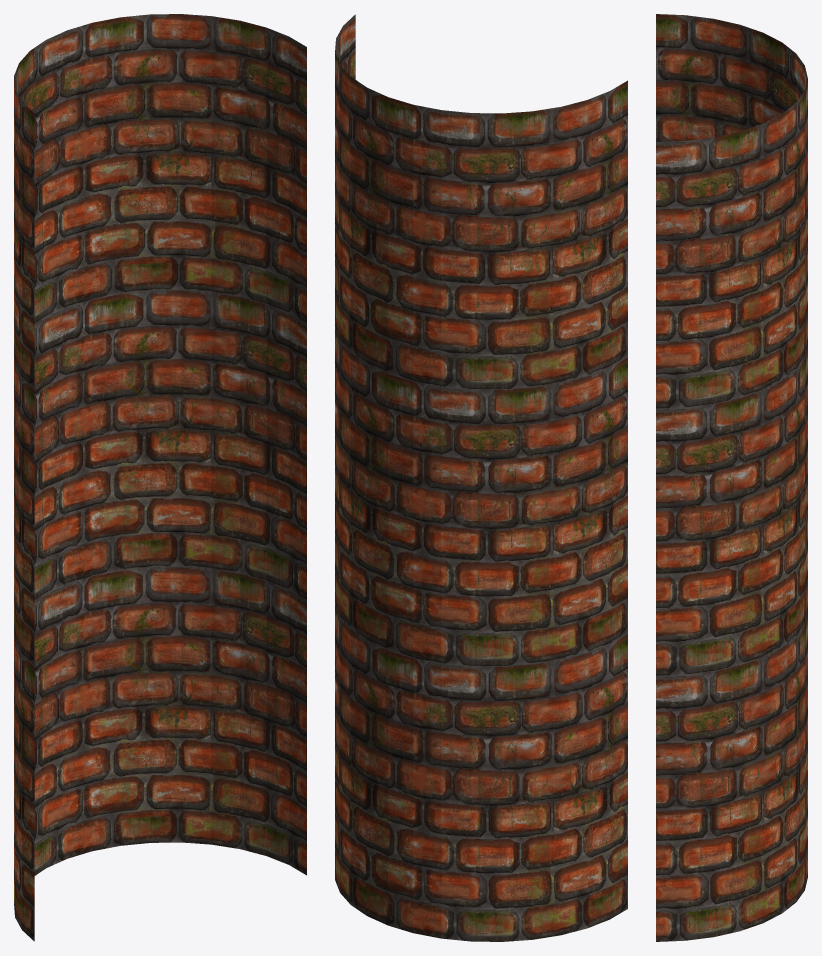
Rendered from Halfpipe.obj.
The picture shows the model from 3 angles, left to right: view 1: azimuth 30°, elevation 25°; view 2: azimuth 150°, elevation 25°; view 3: azimuth 270°, elevation 25°; orthographic projection. The views are drawn at different scales.
Parts seen in each view (by area): view 1: Cylinder; view 2: Cylinder; view 3: Cylinder.
Part boxes in pixels (bbox=[...]): Cylinder: bbox=[14, 14, 306, 941]; Cylinder: bbox=[335, 14, 627, 941]; Cylinder: bbox=[656, 14, 807, 941].
Size of the model in its own units: 2 by 5.82 by 1.
Materials: 1 (1 with a texture image).
